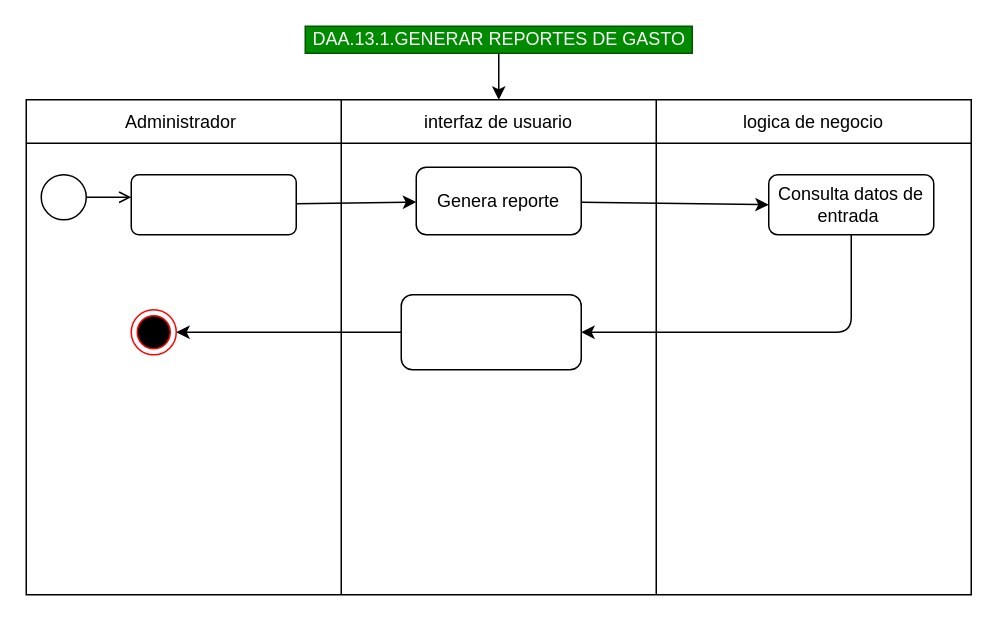
Some shapes in this 998 by 621 pixel diagram are drawn without their labels. Here are the shapes that lost their labels. From the top down, the centre of each, then its label:
(x=213, y=204): Ingresa a reportes
(x=490, y=331): Muestra un excel de datos de entrada
